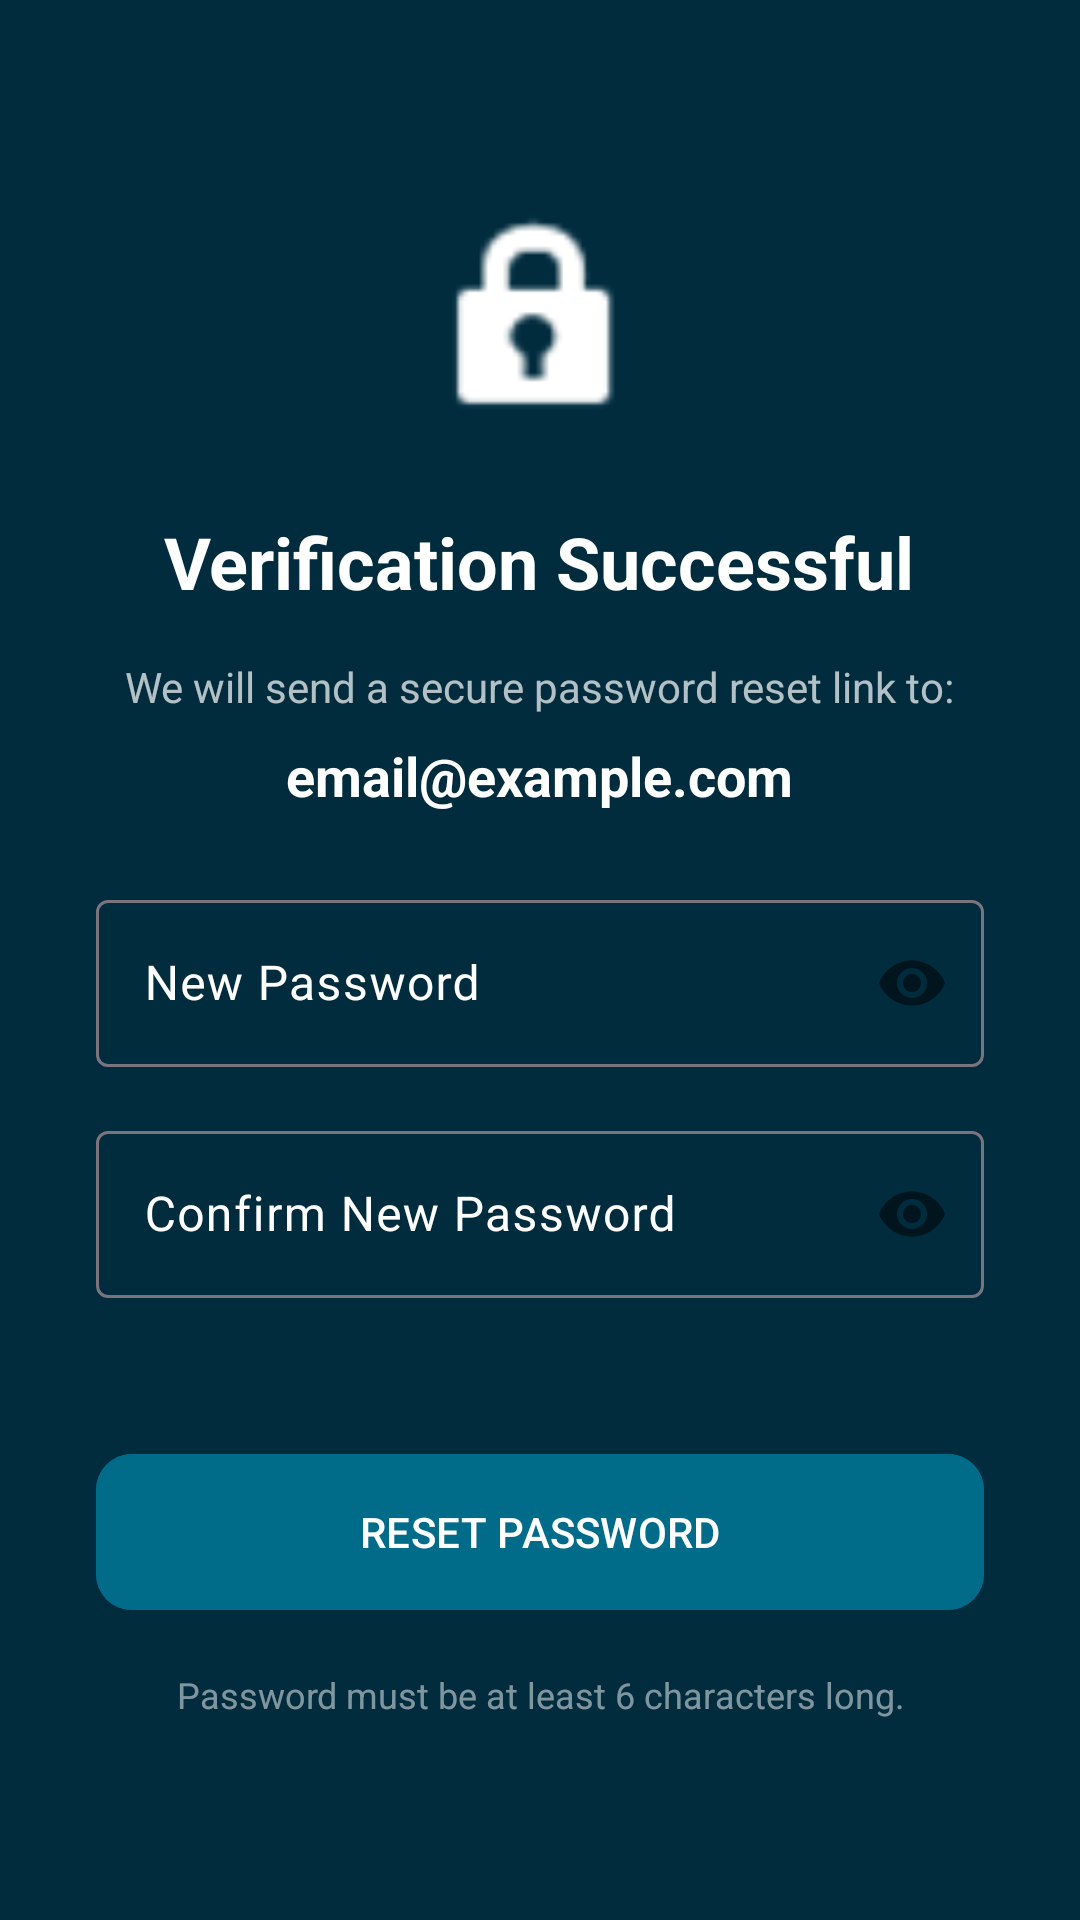

Locate icon controls on the screen. Image size 1080px x 1920px, boxes as (x1, y1, x2, y2).
lock idle: (456, 220, 614, 405)
